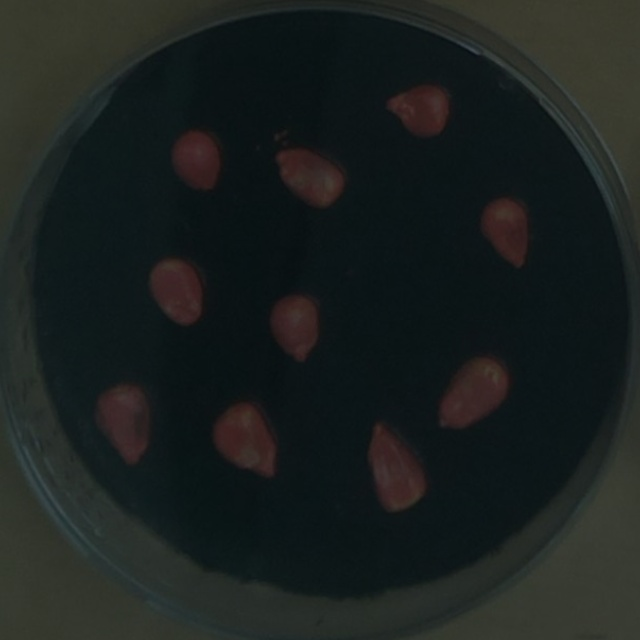Zea mays: (359, 414, 436, 523), (429, 349, 519, 438), (203, 394, 287, 486), (87, 375, 157, 474), (266, 138, 352, 215), (139, 248, 211, 334), (260, 284, 329, 370), (472, 192, 536, 276), (378, 76, 457, 144), (161, 121, 229, 200)
